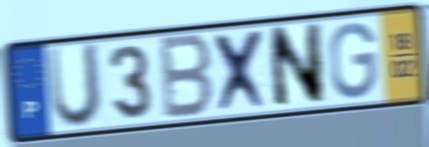3: (108, 43, 155, 121)
B: (159, 32, 216, 123)
G: (327, 19, 379, 102)
N: (266, 20, 326, 112)
U: (45, 40, 104, 132)
X: (211, 26, 272, 116)
